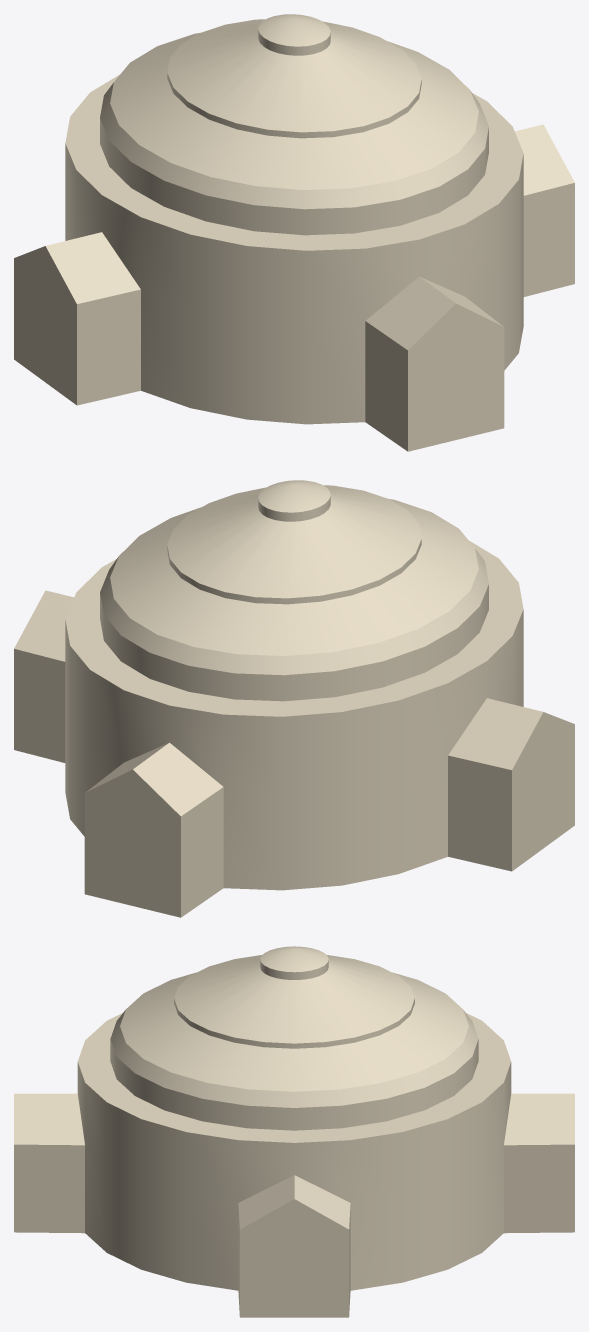
The model's file is SM_Royal_Albert_Hall.fbx.
The picture shows the model from 3 angles, top to bottom: view 1: azimuth 30°, elevation 25°; view 2: azimuth 150°, elevation 25°; view 3: azimuth 270°, elevation 25°; orthographic projection. The views are drawn at different scales.
Visible parts, largest first — view 1: SM_Royal_Albert_Hall; view 2: SM_Royal_Albert_Hall; view 3: SM_Royal_Albert_Hall.
Part boxes in pixels (x1,y1,x2,y2): SM_Royal_Albert_Hall: [14, 14, 574, 451]; SM_Royal_Albert_Hall: [14, 480, 574, 917]; SM_Royal_Albert_Hall: [14, 946, 574, 1317].
Size of the model in its own units: 98.88 by 57.46 by 111.
